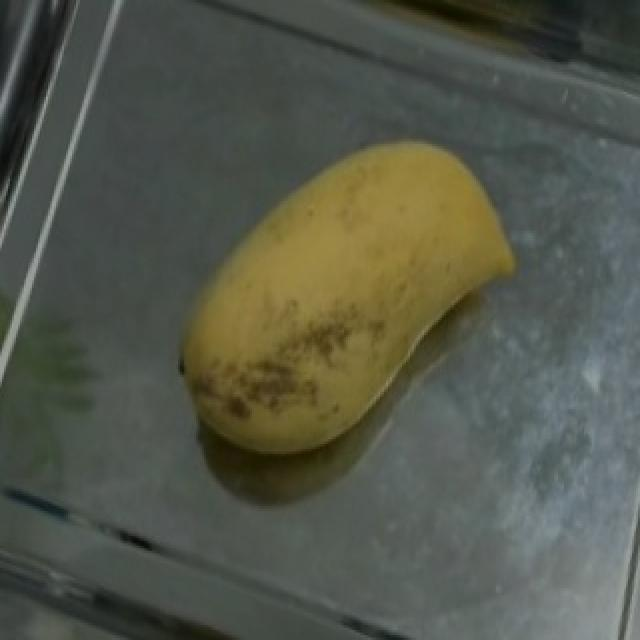fruit: (196, 82, 562, 476)
